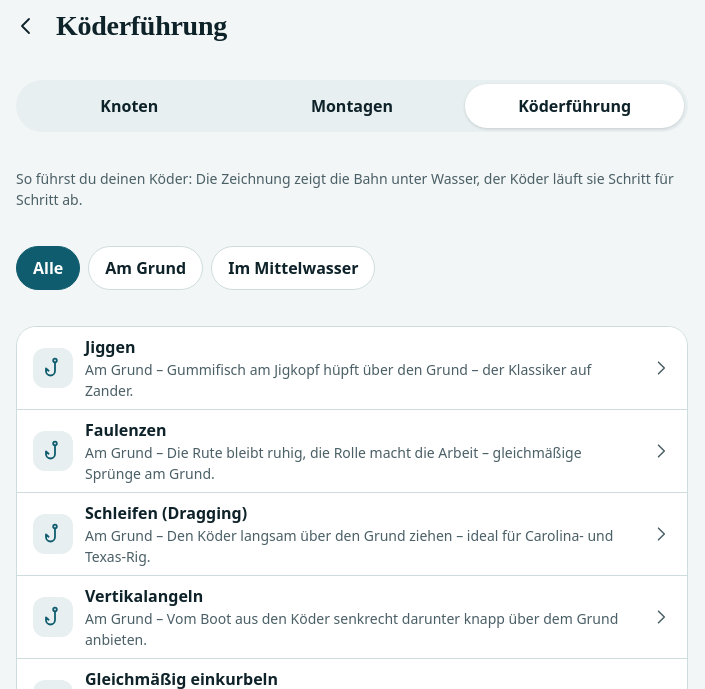
Test: Köderführung (RET-2) › Liste mit drei Reitern und Filter nach Wassertiefe
expect the link "Montagen" is shown: met, box top-left (311, 95), bottom-right (393, 117)
Step 1. Click the button "Im Mittelwasser" → (293, 268), box top-left (211, 246), bottom-right (376, 290)
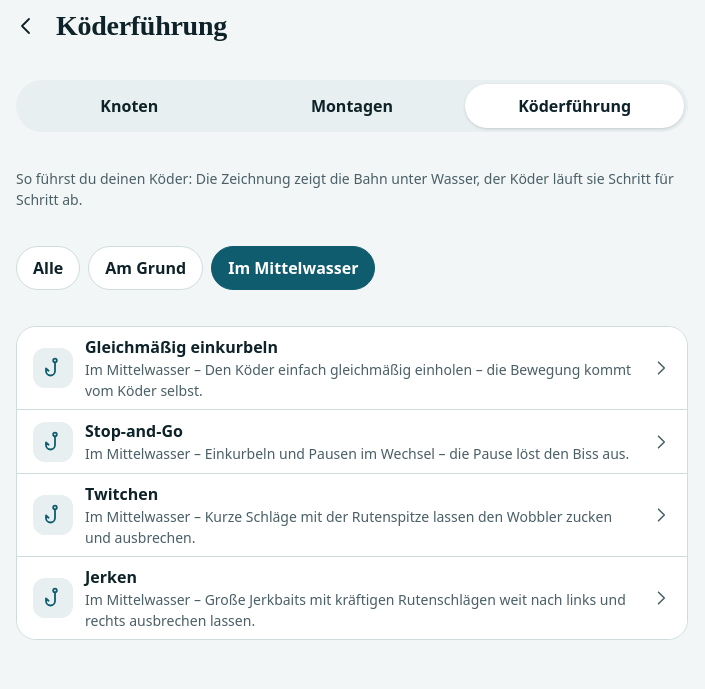
expect the link "Twitchen" is shown: met, box top-left (17, 473), bottom-right (687, 556)
expect the link "Jiggen" is gone: met
